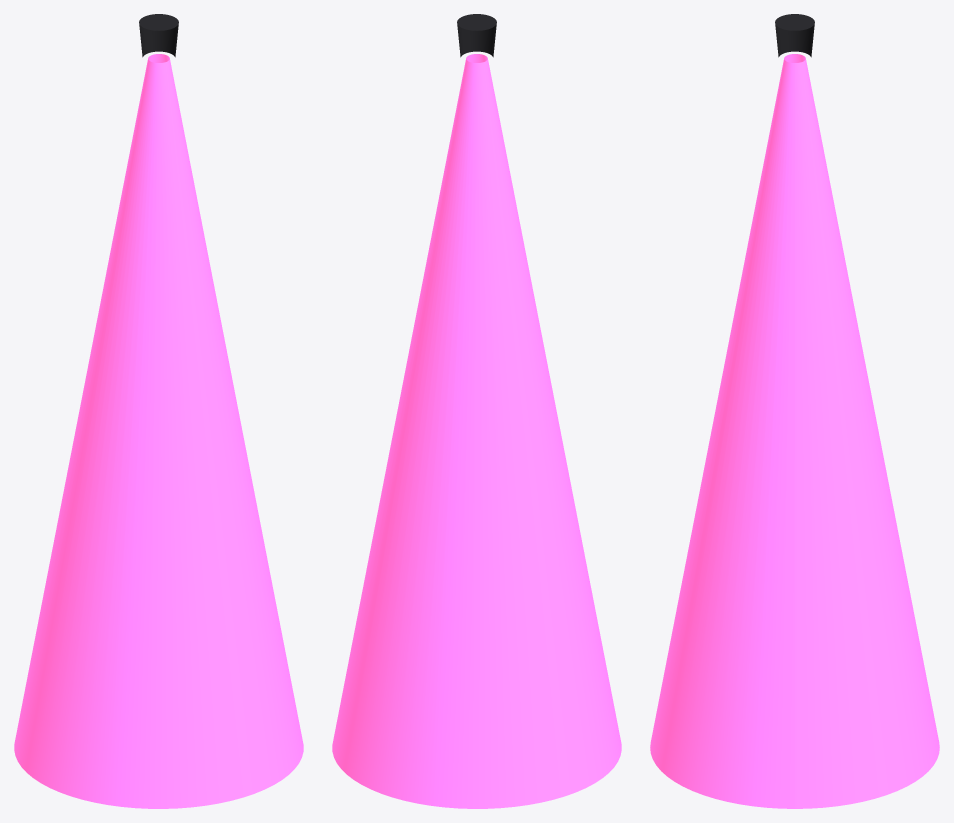
The model's file is beam_ruby.glb.
3 renders of one model, left to right at view 1: azimuth 30°, elevation 25°; view 2: azimuth 150°, elevation 25°; view 3: azimuth 270°, elevation 25°, orthographic.
Parts seen in each view (by area): view 1: beam, can0, can1; view 2: beam, can0, can1; view 3: beam, can0, can1.
Part boxes in pixels (left/top/right/bottom): beam: left=14, top=54, right=303, bottom=808; can0: left=139, top=24, right=178, bottom=57; can1: left=139, top=14, right=178, bottom=30; beam: left=332, top=54, right=621, bottom=808; can0: left=457, top=24, right=496, bottom=57; can1: left=457, top=14, right=496, bottom=30; beam: left=650, top=54, right=939, bottom=808; can0: left=775, top=24, right=814, bottom=57; can1: left=775, top=14, right=814, bottom=30.
Size of the model in its own units: 1.6 by 4.42 by 1.6.
